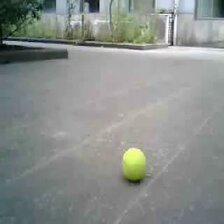tennis: (121, 148, 147, 177)
